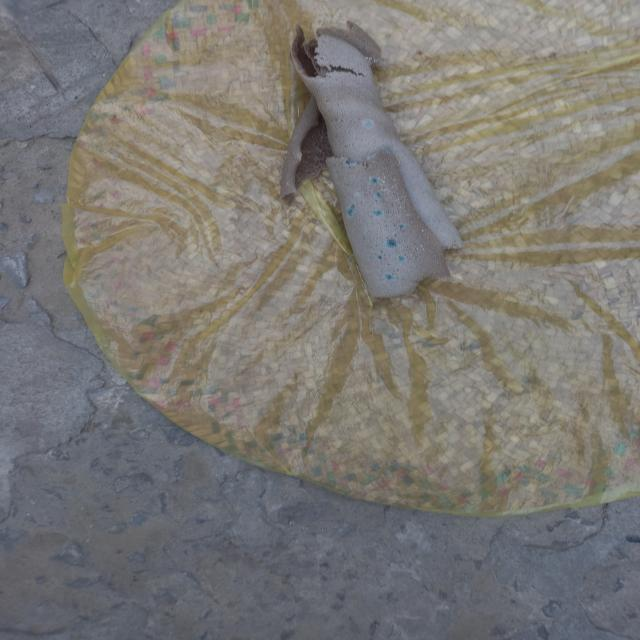injera_mold: (378, 143, 395, 154), (345, 203, 358, 217), (343, 156, 359, 167), (362, 118, 376, 130), (362, 151, 375, 161), (384, 272, 395, 283), (386, 237, 396, 249), (364, 53, 374, 62), (398, 223, 407, 232), (415, 244, 425, 252), (374, 210, 385, 217), (370, 176, 379, 184), (397, 255, 406, 262), (296, 150, 301, 162), (377, 254, 384, 262), (374, 192, 382, 198), (401, 194, 407, 200), (392, 184, 398, 190), (420, 228, 425, 235), (403, 204, 406, 210), (397, 198, 401, 202), (354, 192, 358, 196), (382, 179, 385, 184), (393, 177, 396, 182), (286, 182, 288, 188), (406, 214, 412, 216), (417, 215, 420, 218)
